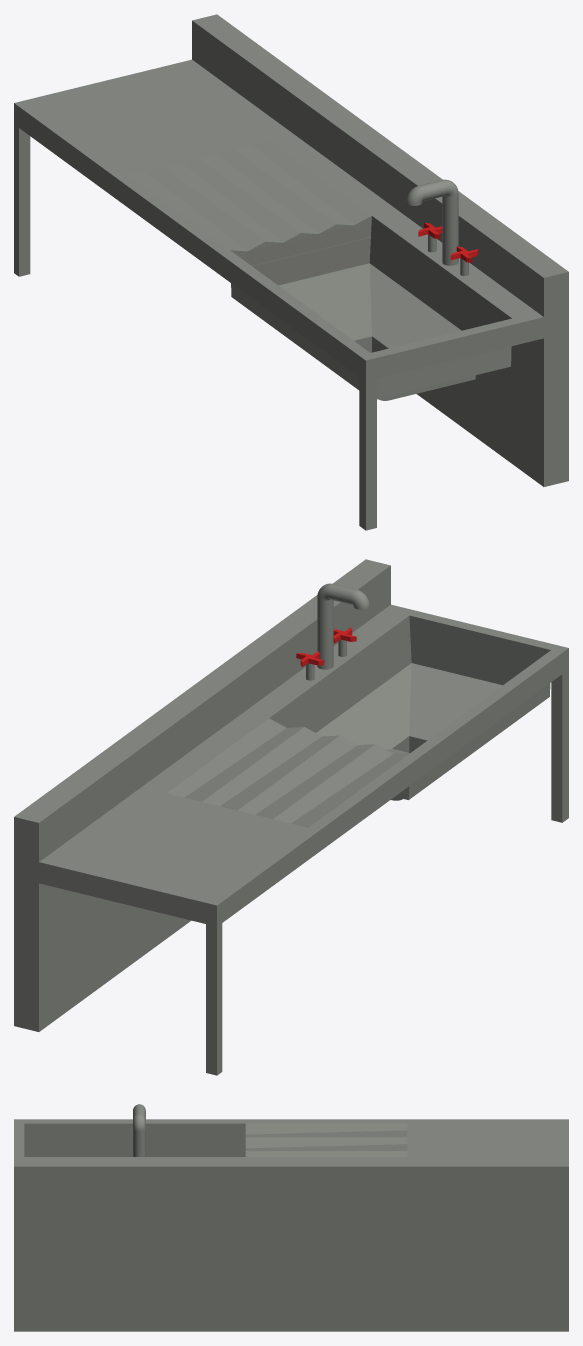
File: lavadero.obj
3 views of the same model, one above another, from view 1: azimuth 30°, elevation 25°; view 2: azimuth 150°, elevation 25°; view 3: azimuth 270°, elevation 25° (orthographic). The views are drawn at different scales.
Parts seen in each view (by area): view 1: Cube.008; view 2: Cube.008; view 3: Cube.008.
Boxes of the visible parts, x1,y1,x2,y2 form: Cube.008: (14,14,568,530); Cube.008: (14,559,568,1075); Cube.008: (14,1104,568,1331).
Size of the model in its own units: 2 by 2.39 by 6.
